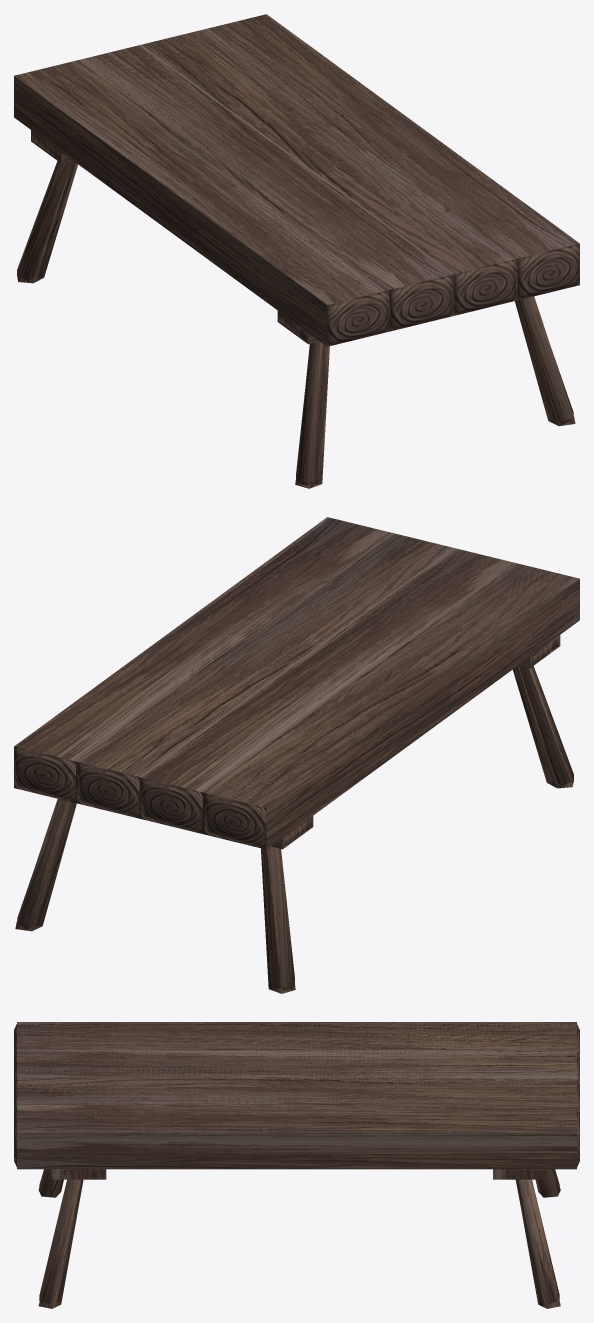
File: stolek3.FBX
The picture shows the model from 3 angles, top to bottom: view 1: azimuth 30°, elevation 25°; view 2: azimuth 150°, elevation 25°; view 3: azimuth 270°, elevation 25°; orthographic projection. The views are drawn at different scales.
Parts seen in each view (by area): view 1: stolek3_LOD2, stolek3_LOD1, stolek3_LOD3; view 2: stolek3_LOD1, stolek3_LOD2, stolek3_LOD3; view 3: stolek3_LOD3, stolek3_LOD2, stolek3_LOD1.
Part boxes in pixels (box(x1,y1,x2,y2)): stolek3_LOD2: box(14, 14, 579, 488); stolek3_LOD1: box(17, 15, 579, 485); stolek3_LOD3: box(15, 14, 579, 488); stolek3_LOD1: box(14, 518, 575, 989); stolek3_LOD2: box(14, 517, 579, 993); stolek3_LOD3: box(14, 517, 578, 993); stolek3_LOD3: box(17, 1022, 576, 1308); stolek3_LOD2: box(17, 1022, 576, 1131); stolek3_LOD1: box(14, 1023, 579, 1303).
Size of the model in its own units: 30.39 by 19.86 by 59.68.
